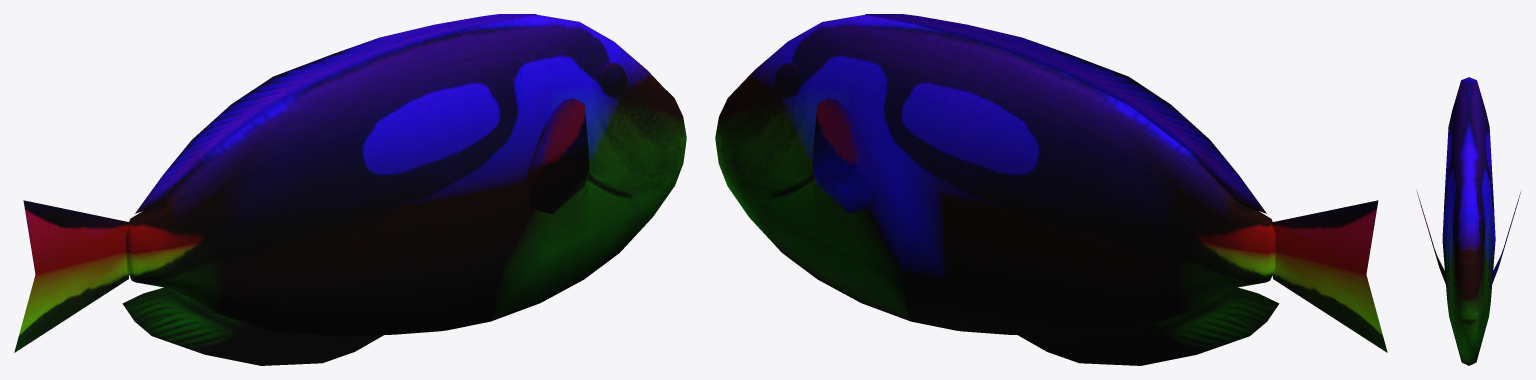
The model's file is blue_tang.glb.
The picture shows the model from 3 angles, left to right: view 1: azimuth 30°, elevation 25°; view 2: azimuth 150°, elevation 25°; view 3: azimuth 270°, elevation 25°; orthographic projection. The views are drawn at different scales.
Parts seen in each view (by area): view 1: BlueTang; view 2: BlueTang; view 3: BlueTang.
Part boxes in pixels (<box>): BlueTang: <box>14,14,686,365</box>; BlueTang: <box>715,14,1387,365</box>; BlueTang: <box>1416,77,1520,365</box>.
Size of the model in its own units: 1 by 0.4445 by 0.1887.
1 material, 1 textured.
